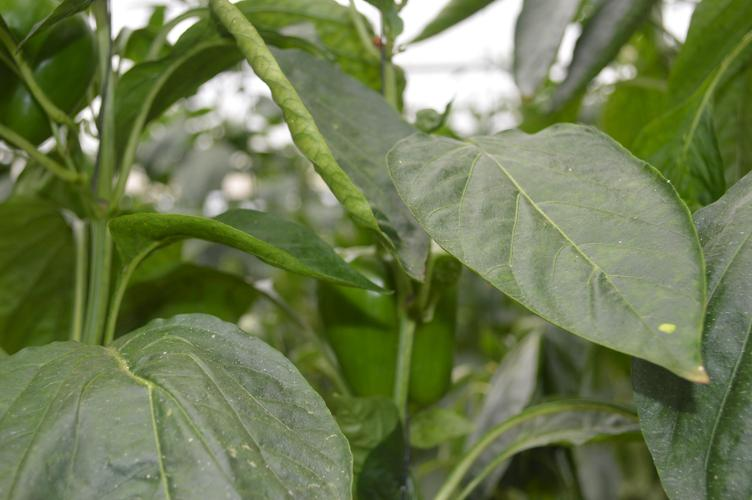BellPepper: (317, 255, 460, 405)
